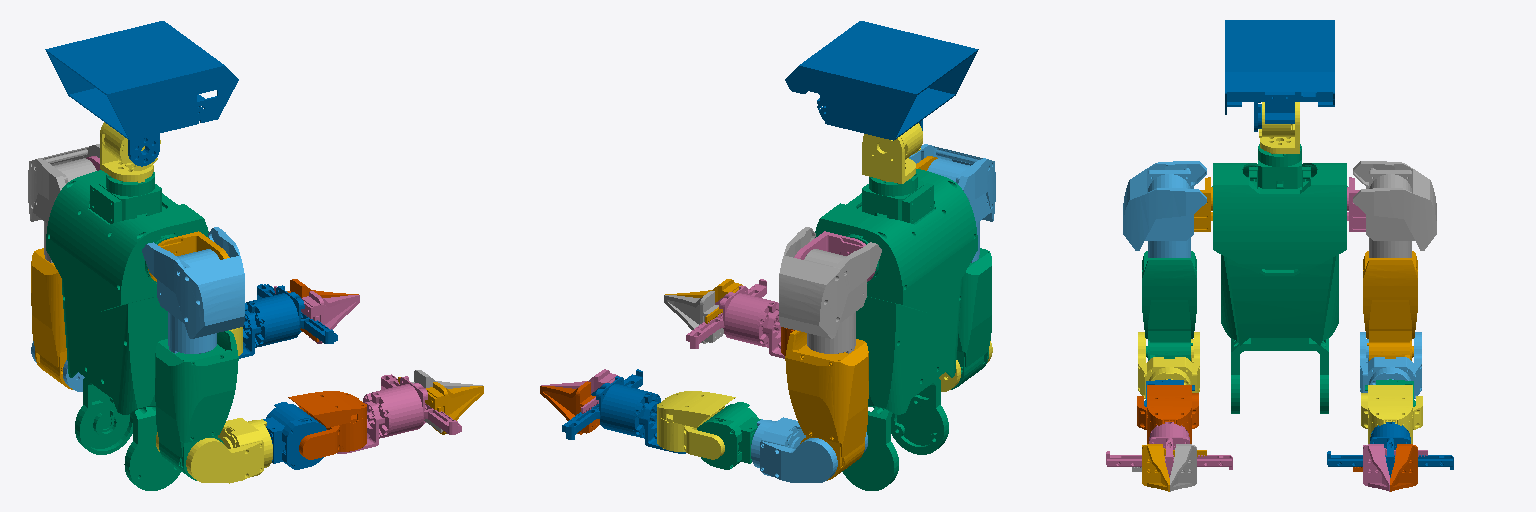
URDF robot description (X7S):
<?xml version="1.0" ?>
<!-- =================================================================================== -->
<!-- |    This document was autogenerated by xacro from robot.xacro                    | -->
<!-- |    EDITING THIS FILE BY HAND IS NOT RECOMMENDED                                 | -->
<!-- =================================================================================== -->
<!-- This URDF was automatically created by SolidWorks to URDF Exporter! Originally created by [author] ([email redacted]) 
     Commit Version: 1.6.0-4-g7f85cfe  Build Version: 1.6.7995.38578
     For more information, please see http://wiki.ros.org/sw_urdf_exporter -->
<robot name="X7S">
  <link name="base_link">
    <inertial>
      <origin xyz="-0.061403 0.00062999 0.18169"/>
      <mass value="27.286"/>
      <inertia ixx="1.61101" ixy="0.00464" ixz="-0.16195" iyy="1.99174" iyz="0.00823" izz="1.07279"/>
    </inertial>
    <visual>
      <geometry>
        <mesh filename="package://x7s_description/meshes/base_link.obj"/>
      </geometry>
    </visual>
    <collision>
      <geometry>
        <mesh filename="package://x7s_description/meshes/base_link.obj"/>
      </geometry>
    </collision>
  </link>
  <link name="lift">
    <inertial>
      <origin xyz="-0.010805 -0.00069779 -0.059694"/>
      <mass value="6.205"/>
      <inertia ixx="0.01994" ixy="-0.00008" ixz="-0.00198" iyy="0.06039" iyz="-0.00016" izz="0.06721"/>
    </inertial>
    <visual>
      <geometry>
        <mesh filename="package://x7s_description/meshes/lift.obj"/>
      </geometry>
    </visual>
    <collision>
      <geometry>
        <mesh filename="package://x7s_description/meshes/lift.obj"/>
      </geometry>
    </collision>
  </link>
  <joint name="lift_joint" type="prismatic">
    <origin xyz="0.096 0 0.31"/>
    <parent link="base_link"/>
    <child link="lift"/>
    <axis xyz="0 0 1"/>
    <limit effort="100" lower="0" upper="0.54" velocity="1000"/>
  </joint>
  <link name="body">
    <inertial>
      <origin xyz="-0.000779578835400224 0.053760645280584 0.220464314501233"/>
      <mass value="3.01262653552798"/>
      <inertia ixx="0.03987" ixy="0.00000" ixz="-0.00003" iyy="0.03461" iyz="0.00039" izz="0.00967"/>
    </inertial>
    <visual>
      <geometry>
        <mesh filename="package://x7s_description/meshes/body.obj"/>
      </geometry>
    </visual>
    <collision>
      <geometry>
        <mesh filename="package://x7s_description/meshes/body.obj"/>
      </geometry>
    </collision>
  </link>
  <joint name="waist_joint" type="revolute">
    <origin xyz="0.066 -0.0546 -0.06"/>
    <parent link="lift"/>
    <child link="body"/>
    <axis xyz="0 1 0"/>
    <limit effort="100" lower="0" upper="1.57" velocity="5"/>
  </joint>
  <link name="neck">
    <inertial>
      <origin xyz="-1.2166451790474E-08 0.000155101086835956 0.0414775143344981"/>
      <mass value="0.429406588376073"/>
      <inertia ixx="0.00027" ixy="0.00000" ixz="0.00000" iyy="0.00026" iyz="-0.00001" izz="0.00018"/>
    </inertial>
    <visual>
      <geometry>
        <mesh filename="package://x7s_description/meshes/neck.obj"/>
      </geometry>
    </visual>
    <collision>
      <geometry>
        <mesh filename="package://x7s_description/meshes/neck.obj"/>
      </geometry>
    </collision>
  </link>
  <joint name="neck_joint" type="revolute">
    <origin xyz="0 0.0544 0.356"/>
    <parent link="body"/>
    <child link="neck"/>
    <axis xyz="0 0 1"/>
    <limit effort="100" lower="-1.570796" upper="1.570796" velocity="100"/>
  </joint>
  <link name="head">
    <inertial>
      <origin xyz="0.0145474612596931 0.0229595215513494 0.0787914285814235"/>
      <mass value="1.54420437039843"/>
      <inertia ixx="0.00576" ixy="-0.00007" ixz="0.00018" iyy="0.00477" iyz="0.00015" izz="0.00768"/>
    </inertial>
    <visual>
      <geometry>
        <mesh filename="package://x7s_description/meshes/head.obj"/>
      </geometry>
    </visual>
    <collision>
      <geometry>
        <mesh filename="package://x7s_description/meshes/head.obj"/>
      </geometry>
    </collision>
  </link>
  <joint name="head_joint" type="revolute">
    <origin xyz="0 -0.025 0.049"/>
    <parent link="neck"/>
    <child link="head"/>
    <axis xyz="0 -1 0"/>
    <limit effort="100" lower="-0.785398" upper="0.785398" velocity="1000"/>
  </joint>
  <link name="head_camera">
    <visual>
      <geometry>
        <mesh filename="package://arx5_description/meshes/d405.obj"/>
      </geometry>
    </visual>
  </link>
  <joint name="head_camera_joint" type="fixed">
    <origin xyz="0.095 0.025 0.06"/>
    <parent link="head"/>
    <child link="head_camera"/>
  </joint>
  <link name="left_mount">
    <inertial>
      <origin xyz="0.0203118776657915 0.0282074621926044 -0.000172803675324795"/>
      <mass value="0.131891884746085"/>
      <inertia ixx="0.00012" ixy="0.00004" ixz="0.00000" iyy="0.00009" iyz="0.00000" izz="0.00014"/>
    </inertial>
    <visual>
      <geometry>
        <mesh filename="package://x7s_description/meshes/mount.obj"/>
      </geometry>
    </visual>
    <collision>
      <geometry>
        <mesh filename="package://x7s_description/meshes/mount.obj"/>
      </geometry>
    </collision>
  </link>
  <joint name="left_shoulder_pitch" type="revolute">
    <origin xyz="0 0.1424 0.28"/>
    <parent link="body"/>
    <child link="left_mount"/>
    <axis xyz="0 -1 0"/>
    <limit effort="100" lower="-0.523599" upper="3.141593" velocity="1000"/>
  </joint>
  <link name="left_shoulder">
    <inertial>
      <origin xyz="-0.0244518842072319 0.00440119803297737 -0.0251861647177716"/>
      <mass value="1.03161675931573"/>
      <inertia ixx="0.00167" ixy="0.00003" ixz="0.00007" iyy="0.00166" iyz="0.00005" izz="0.00088"/>
    </inertial>
    <visual>
      <geometry>
        <mesh filename="package://x7s_description/meshes/shoulder.obj"/>
      </geometry>
    </visual>
    <collision>
      <geometry>
        <mesh filename="package://x7s_description/meshes/shoulder.obj"/>
      </geometry>
    </collision>
  </link>
  <joint name="left_shoulder_roll" type="revolute">
    <origin xyz="0.02725 0.063 0"/>
    <parent link="left_mount"/>
    <child link="left_shoulder"/>
    <axis xyz="1 0 0"/>
    <limit effort="100" lower="-0.436332" upper="1.570796" velocity="1000"/>
  </joint>
  <link name="left_upper_arm">
    <inertial>
      <origin xyz="0.000827778295739684 -0.00148365067233044 -0.105295191761956"/>
      <mass value="0.736099125577072"/>
      <inertia ixx="0.00229" ixy="0.00000" ixz="0.00009" iyy="0.00230" iyz="0.00004" izz="0.00060"/>
    </inertial>
    <visual>
      <geometry>
        <mesh filename="package://x7s_description/meshes/upper_arm.obj"/>
      </geometry>
    </visual>
    <collision>
      <geometry>
        <mesh filename="package://x7s_description/meshes/upper_arm.obj"/>
      </geometry>
    </collision>
  </link>
  <joint name="left_arm_yaw" type="revolute">
    <origin xyz="-0.02725 0 -0.0865"/>
    <parent link="left_shoulder"/>
    <child link="left_upper_arm"/>
    <axis xyz="0 0 -1"/>
    <limit effort="100" lower="-1.570796" upper="1.570796" velocity="1000"/>
  </joint>
  <link name="left_elbow">
    <inertial>
      <origin xyz="0.0593724453089232 0.0253235620813382 -0.0125969681001941"/>
      <mass value="0.487506795308259"/>
      <inertia ixx="0.00040" ixy="0.00003" ixz="-0.00007" iyy="0.00055" iyz="-0.00001" izz="0.00069"/>
    </inertial>
    <visual>
      <geometry>
        <mesh filename="package://x7s_description/meshes/elbow.obj"/>
      </geometry>
    </visual>
    <collision>
      <geometry>
        <mesh filename="package://x7s_description/meshes/elbow.obj"/>
      </geometry>
    </collision>
  </link>
  <joint name="left_elbow_pitch" type="revolute">
    <origin xyz="0 -0.02725 -0.1435"/>
    <parent link="left_upper_arm"/>
    <child link="left_elbow"/>
    <axis xyz="0 1 0"/>
    <limit effort="100" lower="-0.785398" upper="1.570796" velocity="1000"/>
  </joint>
  <link name="left_forearm">
    <inertial>
      <origin xyz="0.0458969495196738 -0.000535552755431795 -9.66305755581987E-05"/>
      <mass value="0.487431771518004"/>
      <inertia ixx="0.00024" ixy="0.00000" ixz="0.00000" iyy="0.00027" iyz="0.00000" izz="0.00029"/>
    </inertial>
    <visual>
      <geometry>
        <mesh filename="package://x7s_description/meshes/forearm.obj"/>
      </geometry>
    </visual>
    <collision>
      <geometry>
        <mesh filename="package://x7s_description/meshes/forearm.obj"/>
      </geometry>
    </collision>
  </link>
  <joint name="left_elbow_roll" type="revolute">
    <origin xyz="0.0945 0.02725 -0.015"/>
    <parent link="left_elbow"/>
    <child link="left_forearm"/>
    <axis xyz="1 0 0"/>
    <limit effort="100" lower="-2.792527" upper="2.792527" velocity="1000"/>
  </joint>
  <link name="left_wrist">
    <inertial>
      <origin xyz="0.0575036493913677 0.0264951119112793 0.00135889493052876"/>
      <mass value="0.432944265521347"/>
      <inertia ixx="0.00025" ixy="0.00002" ixz="-0.00002" iyy="0.00033" iyz="0.00000" izz="0.00041"/>
    </inertial>
    <visual>
      <geometry>
        <mesh filename="package://x7s_description/meshes/wrist.obj"/>
      </geometry>
    </visual>
    <collision>
      <geometry>
        <mesh filename="package://x7s_description/meshes/wrist.obj"/>
      </geometry>
    </collision>
  </link>
  <joint name="left_wrist_pitch" type="revolute">
    <origin xyz="0.05 -0.02725 0"/>
    <parent link="left_forearm"/>
    <child link="left_wrist"/>
    <axis xyz="0 -1 0"/>
    <limit effort="100" lower="-0.785398" upper="1.570796" velocity="1000"/>
  </joint>
  <link name="left_gripper_base">
    <inertial>
      <origin xyz="0.0782374674886107 2.27688611500743E-05 0.0203907673011059"/>
      <mass value="0.471847835335863"/>
      <inertia ixx="0.00040" ixy="0.00000" ixz="0.00006" iyy="0.00043" iyz="0.00000" izz="0.00064"/>
    </inertial>
    <visual>
      <geometry>
        <mesh filename="package://x7s_description/meshes/gripper_base.obj"/>
      </geometry>
    </visual>
    <collision>
      <geometry>
        <mesh filename="package://x7s_description/meshes/gripper_base.obj"/>
      </geometry>
    </collision>
  </link>
  <joint name="left_wrist_yaw" type="revolute">
    <origin xyz="0.066 0.02725 -0.022"/>
    <parent link="left_wrist"/>
    <child link="left_gripper_base"/>
    <axis xyz="0 0 -1"/>
    <limit effort="100" lower="-1.570796" upper="1.570796" velocity="100"/>
  </joint>
  <link name="left_gripper_left">
    <inertial>
      <origin xyz="-0.000355222592141713 -0.00782703850949387 -0.00298831676915334"/>
      <mass value="0.0647981743053201"/>
      <inertia ixx="0.00002" ixy="0.00000" ixz="0.00000" iyy="0.00003" iyz="0.00000" izz="0.00003"/>
    </inertial>
    <visual>
      <geometry>
        <mesh filename="package://x7s_description/meshes/gripper_left.obj"/>
      </geometry>
    </visual>
    <collision>
      <geometry>
        <mesh filename="package://x7s_description/meshes/gripper_left.obj"/>
      </geometry>
    </collision>
  </link>
  <joint name="left_gripper_0" type="prismatic">
    <origin xyz="0.12737 0.024896 0.021756"/>
    <parent link="left_gripper_base"/>
    <child link="left_gripper_left"/>
    <axis xyz="0 1 0"/>
    <limit effort="100" lower="0" upper="0.044" velocity="100"/>
  </joint>
  <link name="left_gripper_right">
    <inertial>
      <origin xyz="-0.000355223470276722 0.00782768741060949 0.00242005652832489"/>
      <mass value="0.0647981725781686"/>
      <inertia ixx="0.00002" ixy="0.00000" ixz="0.00000" iyy="0.00003" iyz="0.00000" izz="0.00003"/>
    </inertial>
    <visual>
      <geometry>
        <mesh filename="package://x7s_description/meshes/gripper_right.obj"/>
      </geometry>
    </visual>
    <collision>
      <geometry>
        <mesh filename="package://x7s_description/meshes/gripper_right.obj"/>
      </geometry>
    </collision>
  </link>
  <joint name="left_gripper_1" type="prismatic">
    <origin xyz="0.12737 -0.0249 0.021756"/>
    <parent link="left_gripper_base"/>
    <child link="left_gripper_right"/>
    <axis xyz="0 -1 0"/>
    <limit effort="100" lower="0" upper="0.044" velocity="100"/>
    <mimic joint="left_gripper_0" multiplier="1" offset="0"/>
  </joint>
  <link name="left_gripper_center"/>
  <joint name="left_gripper_center_joint" type="fixed">
    <origin xyz="0.18737 0 0.021756"/>
    <parent link="left_gripper_base"/>
    <child link="left_gripper_center"/>
  </joint>
  <link name="right_mount">
    <inertial>
      <origin xyz="0.0203118776657806 -0.0282074621926024 -0.000172803675324684"/>
      <mass value="0.131891884746085"/>
      <inertia ixx="0.00012" ixy="-0.00004" ixz="0.00000" iyy="0.00009" iyz="0.00000" izz="0.00014"/>
    </inertial>
    <visual>
      <geometry>
        <mesh filename="package://x7s_description/meshes/mount.obj" scale="1 -1 1"/>
      </geometry>
    </visual>
    <collision>
      <geometry>
        <mesh filename="package://x7s_description/meshes/mount.obj" scale="1 -1 1"/>
      </geometry>
    </collision>
  </link>
  <joint name="right_shoulder_pitch" type="revolute">
    <origin xyz="0 -0.0336 0.28"/>
    <parent link="body"/>
    <child link="right_mount"/>
    <axis xyz="0 -1 0"/>
    <limit effort="100" lower="-0.523599" upper="3.141593" velocity="1000"/>
  </joint>
  <link name="right_shoulder">
    <inertial>
      <origin xyz="-0.0244518746422262 -0.00440118072836032 -0.0251861194488474"/>
      <mass value="1.03161748745213"/>
      <inertia ixx="0.00167" ixy="-0.00003" ixz="0.00007" iyy="0.00166" iyz="-0.00005" izz="0.00088"/>
    </inertial>
    <visual>
      <geometry>
        <mesh filename="package://x7s_description/meshes/shoulder.obj" scale="1 -1 1"/>
      </geometry>
    </visual>
    <collision>
      <geometry>
        <mesh filename="package://x7s_description/meshes/shoulder.obj" scale="1 -1 1"/>
      </geometry>
    </collision>
  </link>
  <joint name="right_shoulder_roll" type="revolute">
    <origin xyz="0.02725 -0.063 0"/>
    <parent link="right_mount"/>
    <child link="right_shoulder"/>
    <axis xyz="-1 0 0"/>
    <limit effort="100" lower="-0.436332" upper="1.570796" velocity="1000"/>
  </joint>
  <link name="right_upper_arm">
    <inertial>
      <origin xyz="0.000827779970195369 0.0014843542246373 -0.105295189564578"/>
      <mass value="0.73609919110615"/>
      <inertia ixx="0.00229" ixy="0.00000" ixz="0.00009" iyy="0.00230" iyz="-0.00004" izz="0.00060"/>
    </inertial>
    <visual>
      <geometry>
        <mesh filename="package://x7s_description/meshes/upper_arm.obj" scale="1 -1 1"/>
      </geometry>
    </visual>
    <collision>
      <geometry>
        <mesh filename="package://x7s_description/meshes/upper_arm.obj" scale="1 -1 1"/>
      </geometry>
    </collision>
  </link>
  <joint name="right_arm_yaw" type="revolute">
    <origin xyz="-0.02725 0 -0.0865"/>
    <parent link="right_shoulder"/>
    <child link="right_upper_arm"/>
    <axis xyz="0 0 1"/>
    <limit effort="100" lower="-1.570796" upper="1.570796" velocity="1000"/>
  </joint>
  <link name="right_elbow">
    <inertial>
      <origin xyz="0.0593724456215453 -0.025323327171846 -0.0127286630831199"/>
      <mass value="0.48750674832378"/>
      <inertia ixx="0.00040" ixy="-0.00003" ixz="-0.00007" iyy="0.00055" iyz="0.00001" izz="0.00069"/>
    </inertial>
    <visual>
      <geometry>
        <mesh filename="package://x7s_description/meshes/elbow.obj" scale="1 -1 1"/>
      </geometry>
    </visual>
    <collision>
      <geometry>
        <mesh filename="package://x7s_description/meshes/elbow.obj" scale="1 -1 1"/>
      </geometry>
    </collision>
  </link>
  <joint name="right_elbow_pitch" type="revolute">
    <origin xyz="0 0.02725 -0.1435"/>
    <parent link="right_upper_arm"/>
    <child link="right_elbow"/>
    <axis xyz="0 1 0"/>
    <limit effort="100" lower="-0.785398" upper="1.570796" velocity="1000"/>
  </joint>
  <link name="right_forearm">
    <inertial>
      <origin xyz="0.0458969709559334 0.000535552755438318 -2.35788959310756E-05"/>
      <mass value="0.487431771518004"/>
      <inertia ixx="0.00024" ixy="0.00000" ixz="0.00000" iyy="0.00027" iyz="0.00000" izz="0.00029"/>
    </inertial>
    <visual>
      <geometry>
        <mesh filename="package://x7s_description/meshes/forearm.obj" scale="1 -1 1"/>
      </geometry>
    </visual>
    <collision>
      <geometry>
        <mesh filename="package://x7s_description/meshes/forearm.obj" scale="1 -1 1"/>
      </geometry>
    </collision>
  </link>
  <joint name="right_elbow_roll" type="revolute">
    <origin xyz="0.0945 -0.02725 -0.015"/>
    <parent link="right_elbow"/>
    <child link="right_forearm"/>
    <axis xyz="1 0 0"/>
    <limit effort="100" lower="-2.792527" upper="2.792527" velocity="1000"/>
  </joint>
  <link name="right_wrist">
    <inertial>
      <origin xyz="0.0575036493913393 -0.0265307053304072 0.00135892274814464"/>
      <mass value="0.432944265521347"/>
      <inertia ixx="0.00025" ixy="-0.00002" ixz="-0.00002" iyy="0.00033" iyz="0.00000" izz="0.00041"/>
    </inertial>
    <visual>
      <geometry>
        <mesh filename="package://x7s_description/meshes/wrist.obj" scale="1 -1 1"/>
      </geometry>
    </visual>
    <collision>
      <geometry>
        <mesh filename="package://x7s_description/meshes/wrist.obj" scale="1 -1 1"/>
      </geometry>
    </collision>
  </link>
  <joint name="right_wrist_pitch" type="revolute">
    <origin xyz="0.05 0.02725 0"/>
    <parent link="right_forearm"/>
    <child link="right_wrist"/>
    <axis xyz="0 -1 0"/>
    <limit effort="100" lower="-0.785398" upper="1.570796" velocity="1000"/>
  </joint>
  <link name="right_gripper_base">
    <inertial>
      <origin xyz="0.0782374674886106 2.27688611456334E-05 0.0203907673011835"/>
      <mass value="0.471847835335862"/>
      <inertia ixx="0.00040" ixy="0.00000" ixz="0.00006" iyy="0.00043" iyz="0.00000" izz="0.00064"/>
    </inertial>
    <visual>
      <geometry>
        <mesh filename="package://x7s_description/meshes/gripper_base.obj"/>
      </geometry>
    </visual>
    <collision>
      <geometry>
        <mesh filename="package://x7s_description/meshes/gripper_base.obj"/>
      </geometry>
    </collision>
  </link>
  <joint name="right_wrist_yaw" type="revolute">
    <origin xyz="0.066 -0.02725 -0.022"/>
    <parent link="right_wrist"/>
    <child link="right_gripper_base"/>
    <axis xyz="0 0 1"/>
    <limit effort="100" lower="-1.570796" upper="1.570796" velocity="1000"/>
  </joint>
  <link name="right_gripper_left">
    <inertial>
      <origin xyz="-0.000355222592142046 -0.0078270385094939 -0.00298831676915345"/>
      <mass value="0.0647981743053201"/>
      <inertia ixx="0.00002" ixy="0.00000" ixz="0.00000" iyy="0.00003" iyz="0.00000" izz="0.00003"/>
    </inertial>
    <visual>
      <geometry>
        <mesh filename="package://x7s_description/meshes/gripper_left.obj"/>
      </geometry>
    </visual>
    <collision>
      <geometry>
        <mesh filename="package://x7s_description/meshes/gripper_left.obj"/>
      </geometry>
    </collision>
  </link>
  <joint name="right_gripper_0" type="prismatic">
    <origin xyz="0.12737 0.024896 0.021756"/>
    <parent link="right_gripper_base"/>
    <child link="right_gripper_left"/>
    <axis xyz="0 1 0"/>
    <limit effort="100" lower="0" upper="0.044" velocity="1000"/>
  </joint>
  <link name="right_gripper_right">
    <inertial>
      <origin xyz="-0.000355223470277055 0.00782768741060944 0.00242005652832467"/>
      <mass value="0.0647981725781687"/>
      <inertia ixx="0.00002" ixy="0.00000" ixz="0.00000" iyy="0.00003" iyz="0.00000" izz="0.00003"/>
    </inertial>
    <visual>
      <geometry>
        <mesh filename="package://x7s_description/meshes/gripper_right.obj"/>
      </geometry>
    </visual>
    <collision>
      <geometry>
        <mesh filename="package://x7s_description/meshes/gripper_right.obj"/>
      </geometry>
    </collision>
  </link>
  <joint name="right_gripper_1" type="prismatic">
    <origin xyz="0.12737 -0.0249 0.021756"/>
    <parent link="right_gripper_base"/>
    <child link="right_gripper_right"/>
    <axis xyz="0 -1 0"/>
    <limit effort="100" lower="0" upper="0.044" velocity="1000"/>
    <mimic joint="right_gripper_0" multiplier="1" offset="0"/>
  </joint>
  <link name="right_gripper_center"/>
  <joint name="right_gripper_center_joint" type="fixed">
    <origin xyz="0.18737 0 0.021756"/>
    <parent link="right_gripper_base"/>
    <child link="right_gripper_center"/>
  </joint>
</robot>

--- What the picture shows (computed from the rendered views, not written in the file) ---
Views: 3 orthographic renders of the robot side by side, from view 1: azimuth 30°, elevation 25°; view 2: azimuth 150°, elevation 25°; view 3: azimuth 270°, elevation 25°.
Robot: X7S — 26 links, 25 joints (17 revolute, 5 prismatic, 3 fixed); root link base_link; default pose: all joints at 0.
Visible links, largest first — view 1: body, head, right_shoulder, right_upper_arm, right_elbow, right_gripper_base, right_wrist, left_gripper_base, left_upper_arm, left_shoulder, right_forearm, neck (+3 smaller); view 2: body, head, left_shoulder, left_upper_arm, left_elbow, left_gripper_base, right_gripper_base, left_wrist, right_upper_arm, right_shoulder, neck, left_forearm (+5 smaller); view 3: body, head, left_shoulder, right_shoulder, left_upper_arm, right_upper_arm, right_wrist, left_wrist, left_elbow, right_elbow, left_gripper_base, right_gripper_base (+7 smaller).
Boxes of the visible links, x1,y1,x2,y2 form: body: (46,170,208,490); head: (45,21,238,166); right_shoulder: (142,227,244,353); right_upper_arm: (155,330,238,480); right_elbow: (156,418,272,483); right_gripper_base: (337,374,461,453); right_wrist: (288,391,366,459); left_gripper_base: (239,284,337,358); left_upper_arm: (31,248,72,389); left_shoulder: (28,144,99,262); right_forearm: (263,402,326,469); neck: (100,122,160,182); body: (815,169,977,490); head: (785,21,978,140); left_shoulder: (779,227,881,353); left_upper_arm: (785,330,868,480); left_elbow: (751,417,867,482); left_gripper_base: (562,369,685,453); right_gripper_base: (686,279,784,358); left_wrist: (657,391,735,459); right_upper_arm: (951,248,991,389); right_shoulder: (909,144,995,262); neck: (862,123,922,183); left_forearm: (697,402,760,469); body: (1212,144,1347,413); head: (1225,20,1334,131); left_shoulder: (1353,161,1436,257); right_shoulder: (1123,161,1206,257); left_upper_arm: (1363,251,1417,360); right_upper_arm: (1142,251,1196,360); right_wrist: (1137,385,1198,443); left_wrist: (1361,385,1422,443); left_elbow: (1360,332,1421,398); right_elbow: (1138,332,1199,398); left_gripper_base: (1327,422,1453,477); right_gripper_base: (1106,422,1232,477).
Bounding box of the posed robot: 0.4855 × 0.476 × 0.5539 m (x, y, z).
Meshes: 15 distinct files referenced, 21 mesh visuals loaded (12 OBJ); not drawn: 3 (reference not matched to a file when rendering).
